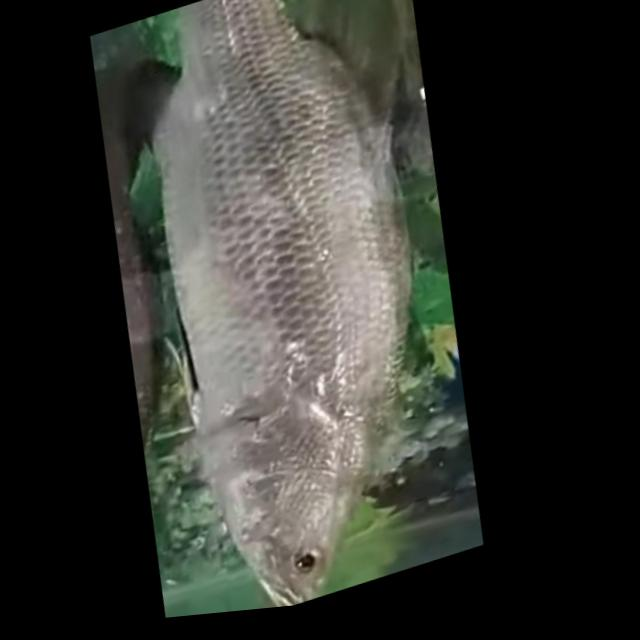Seabass: (50, 0, 532, 629)
